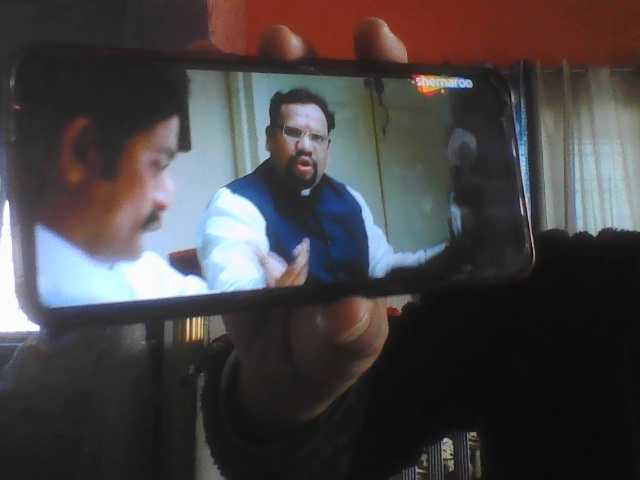fake: (35, 34, 205, 275)
